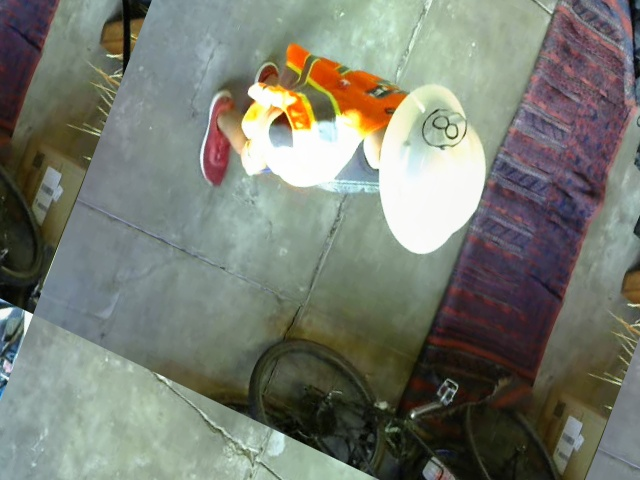eight: (417, 99, 468, 156)
